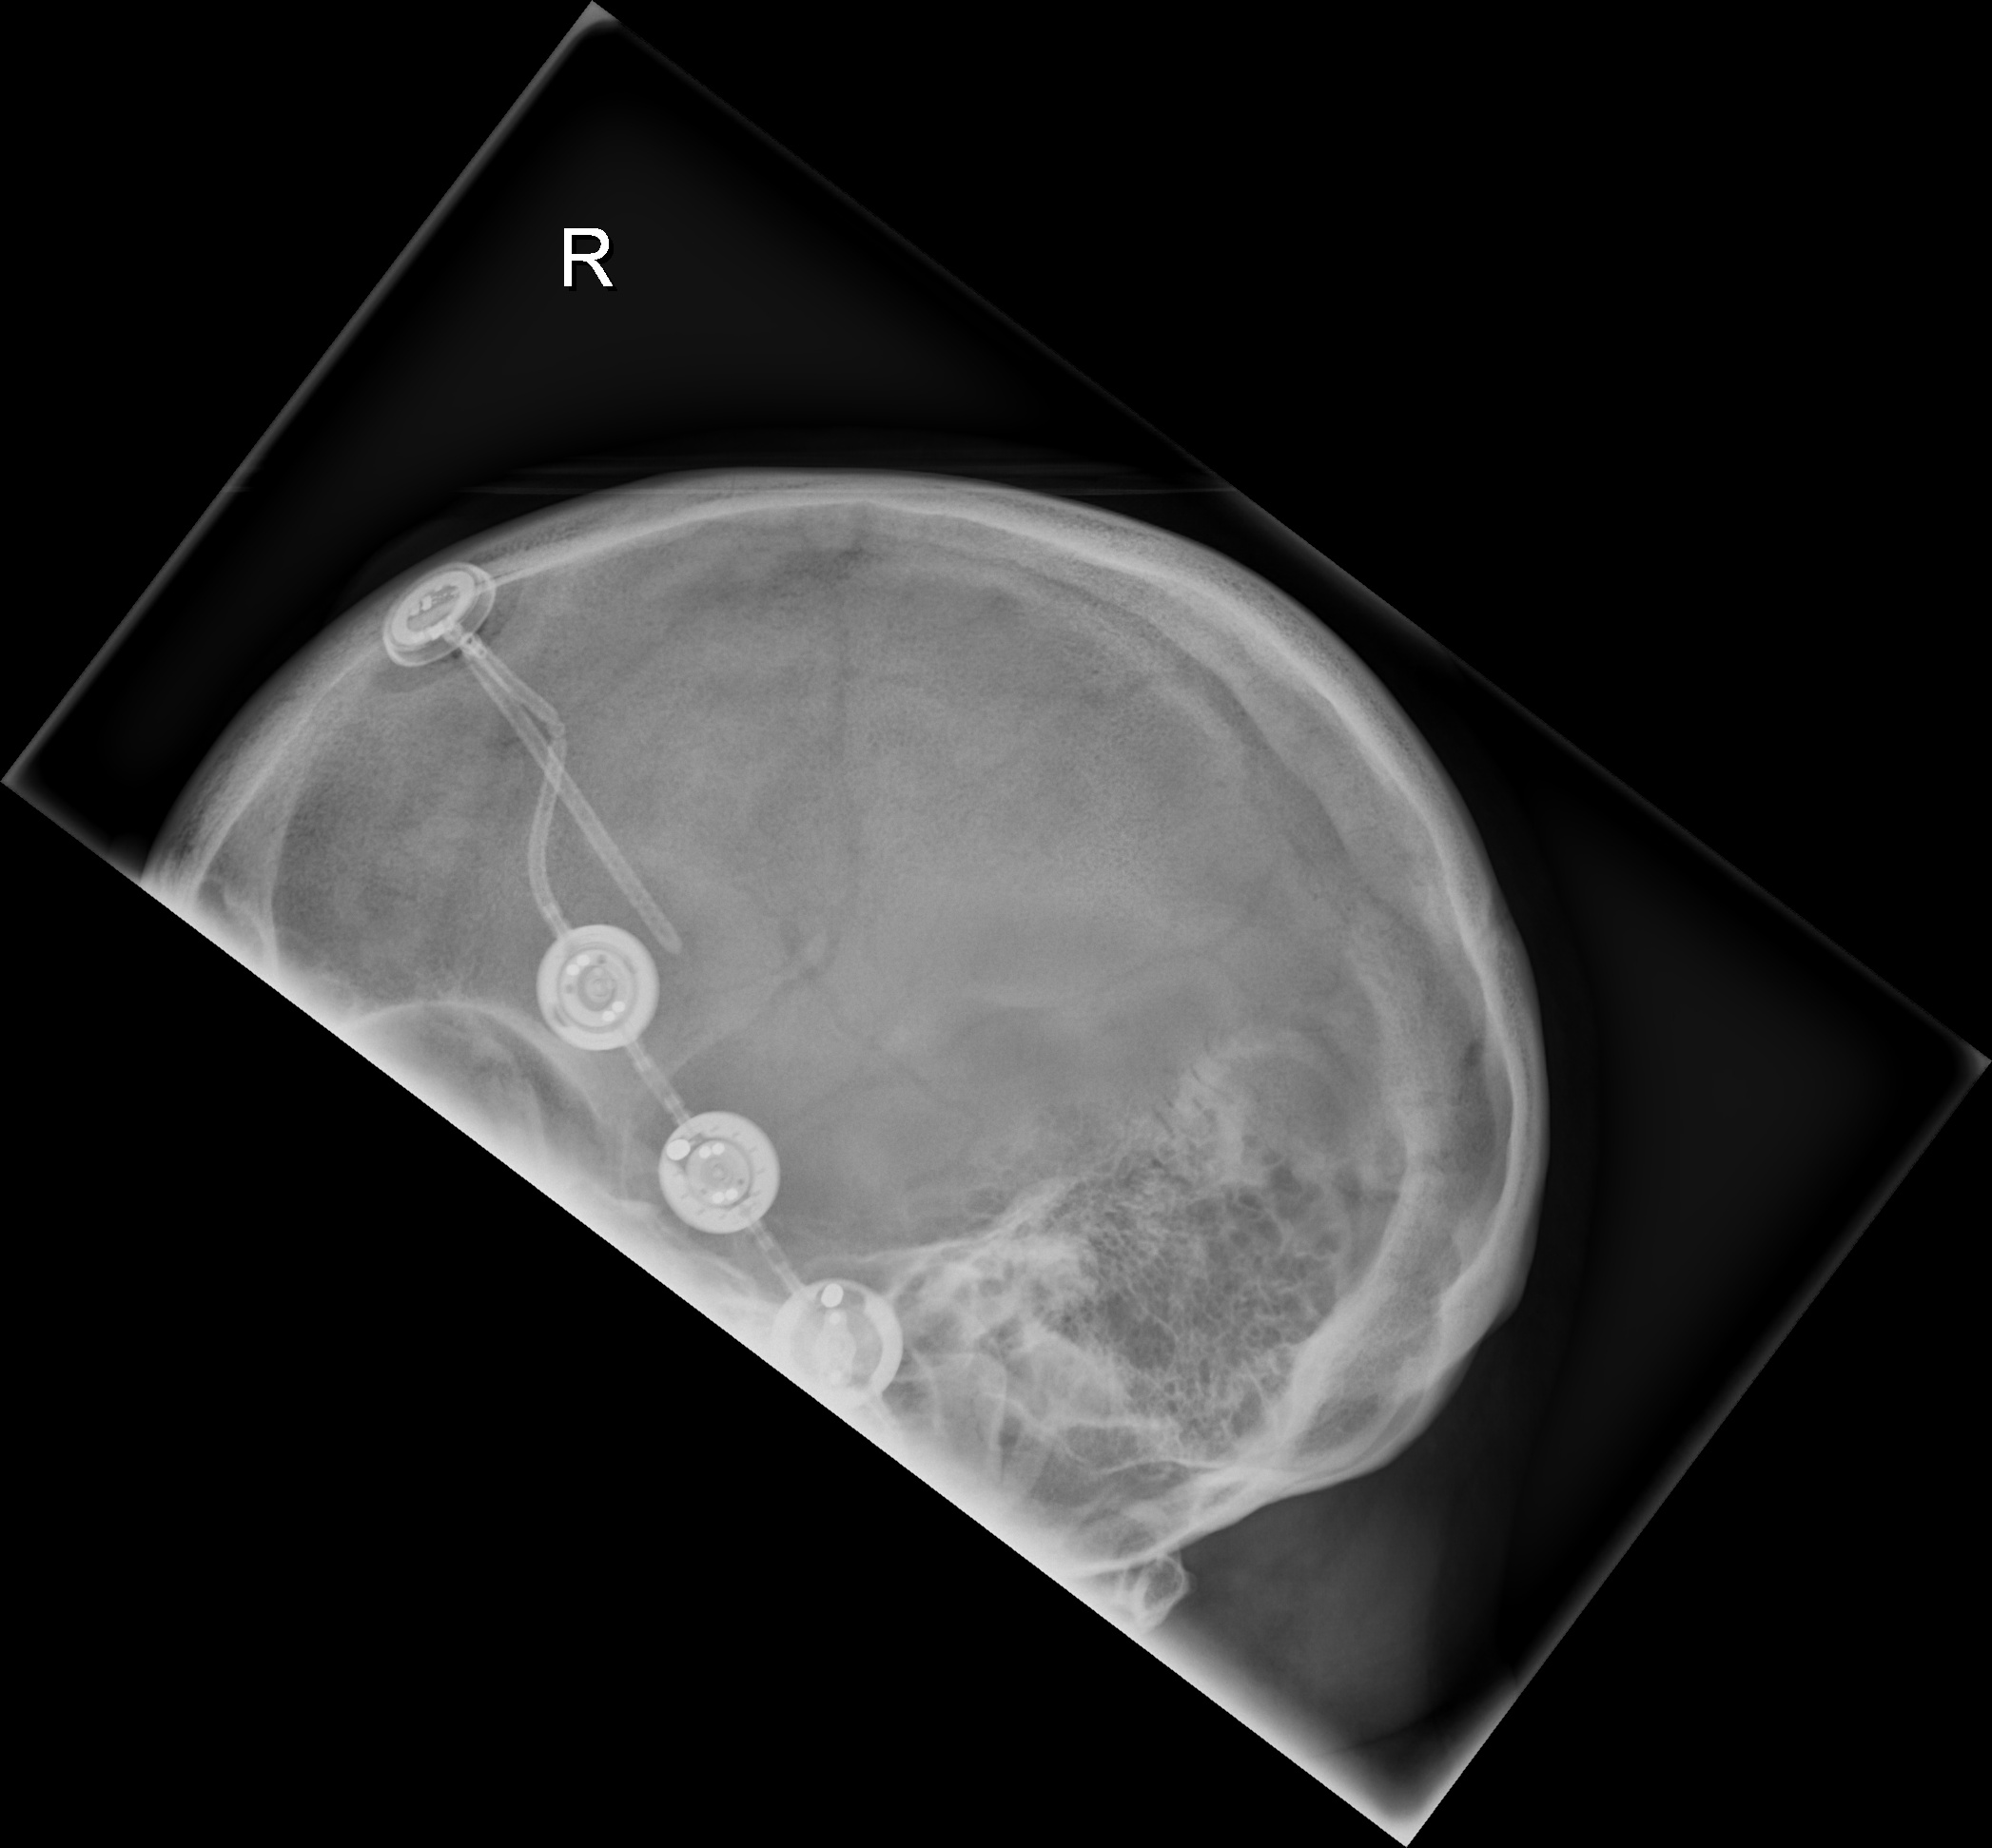m.blue: (655, 1110, 783, 1238)
proGAV 2.0: (531, 921, 667, 1059)
proSA: (769, 1275, 905, 1409)
